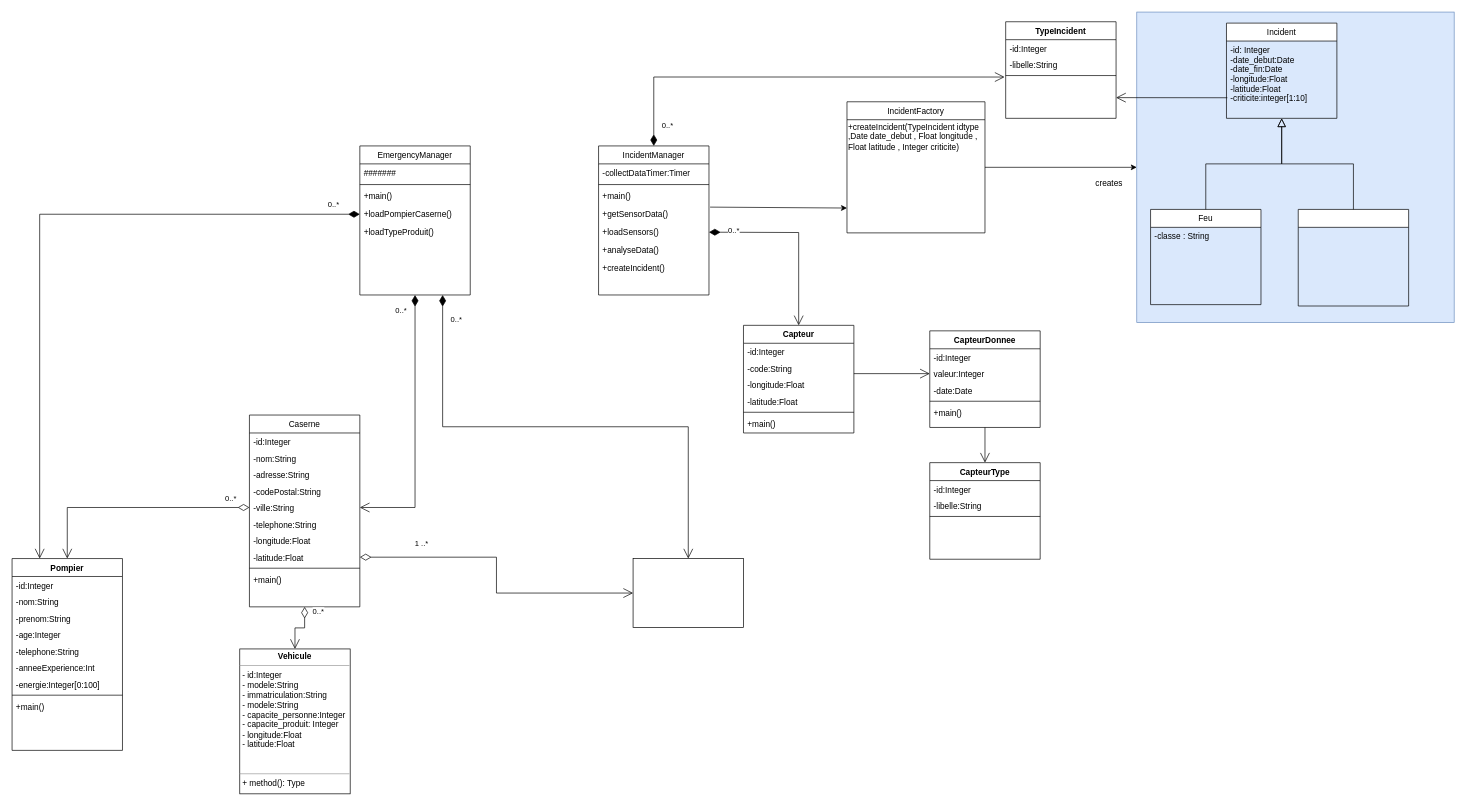
Image size: 1466x806. Some labels were removed from this diagram. Here are the shapes that lost their labels. From the top down, the centre of each, then its label:
the point at 1353,257: Inondation
the point at 687,593: TypeProduit - id:Integer - libelle:String + method(): Type
